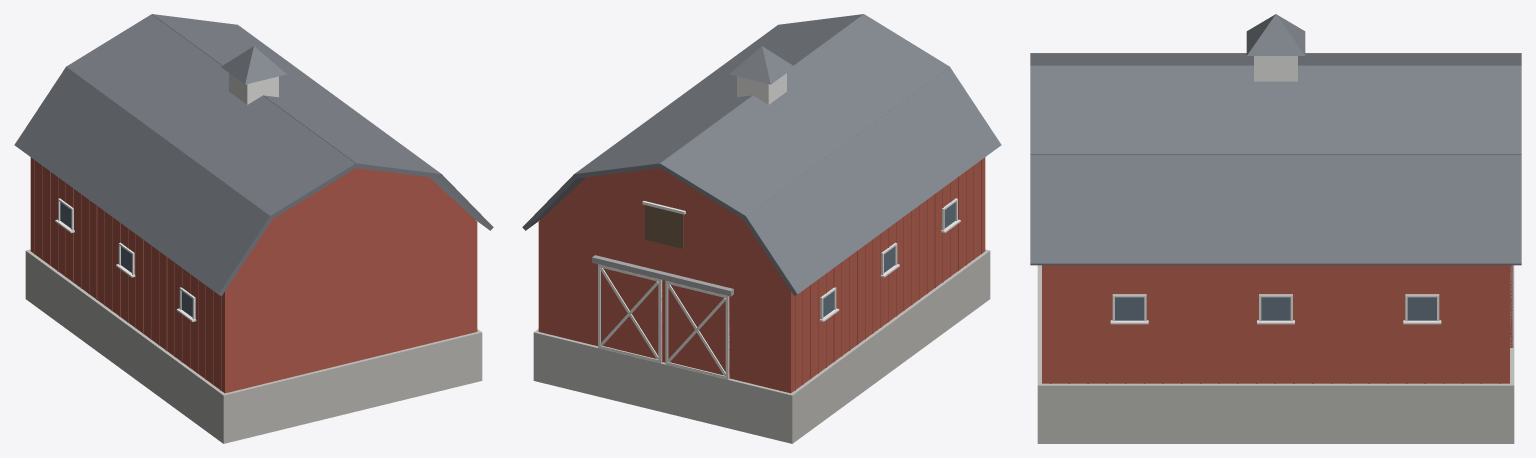
Rendered from barn.glb.
The picture shows the model from 3 angles, left to right: view 1: azimuth 30°, elevation 25°; view 2: azimuth 150°, elevation 25°; view 3: azimuth 270°, elevation 25°; orthographic projection. The views are drawn at different scales.
Visible parts, largest first — view 1: barn; view 2: barn; view 3: barn.
Boxes of the visible parts, left/top/right/bottom form: barn: left=14, top=14, right=493, bottom=443; barn: left=522, top=14, right=1001, bottom=443; barn: left=1030, top=14, right=1521, bottom=443.
Size of the model in its own units: 13.08 by 13.35 by 16.8.
